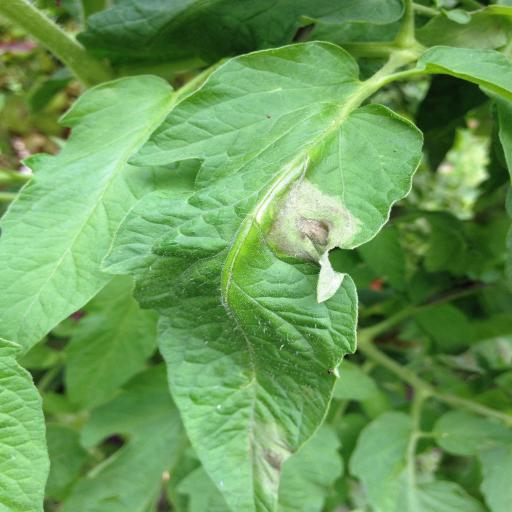disease_tomato: (110, 41, 434, 507)
